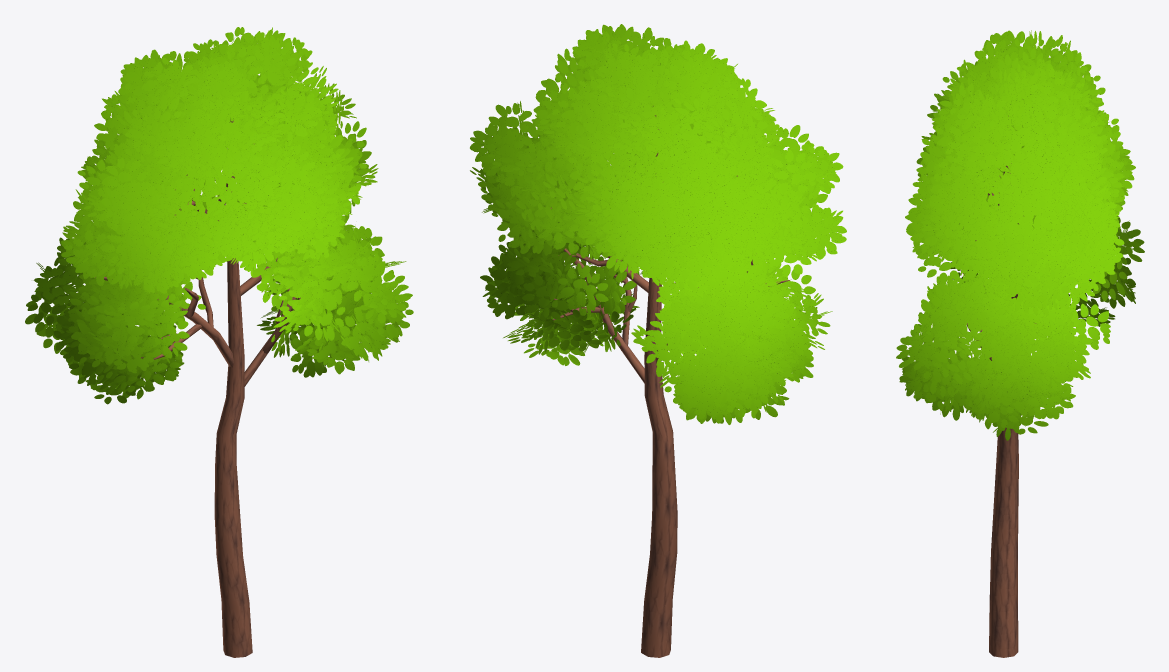
Rendered from tree-1.glb.
3 renders of one model, left to right at view 1: azimuth 30°, elevation 25°; view 2: azimuth 150°, elevation 25°; view 3: azimuth 270°, elevation 25°, orthographic. The views are drawn at different scales.
Visible parts, largest first — view 1: NormalTree_1; view 2: NormalTree_1; view 3: NormalTree_1.
Part boxes in pixels (x1,y1,x2,y2): NormalTree_1: [25, 27, 413, 657]; NormalTree_1: [470, 24, 846, 657]; NormalTree_1: [896, 30, 1144, 657].
Size of the model in its own units: 4.05 by 6.87 by 2.74.
2 materials, 2 textured.
